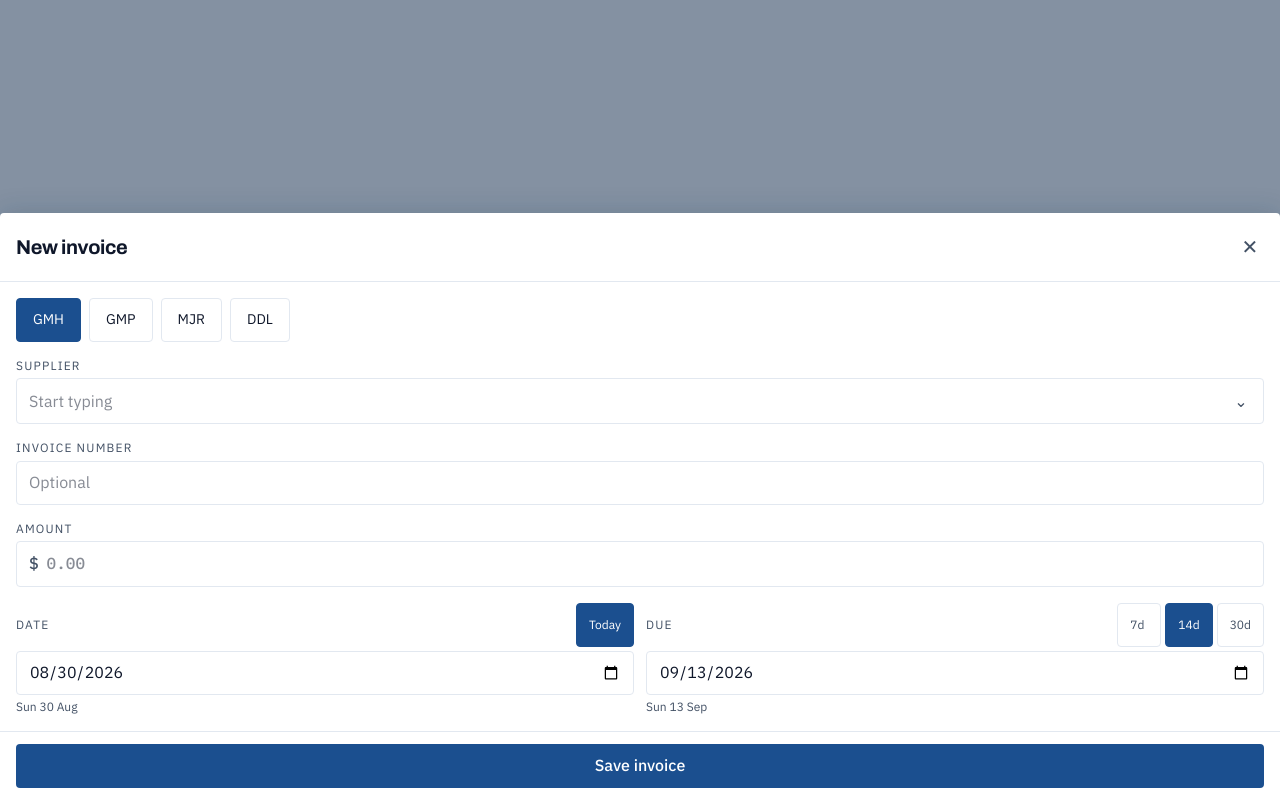
the common case: four taps and a number › confirms with the reference the database actually assigned
Type "Bid" into the field labelled "Supplier".
click(618, 401); type("Bid")  # box [17,379,1219,423]
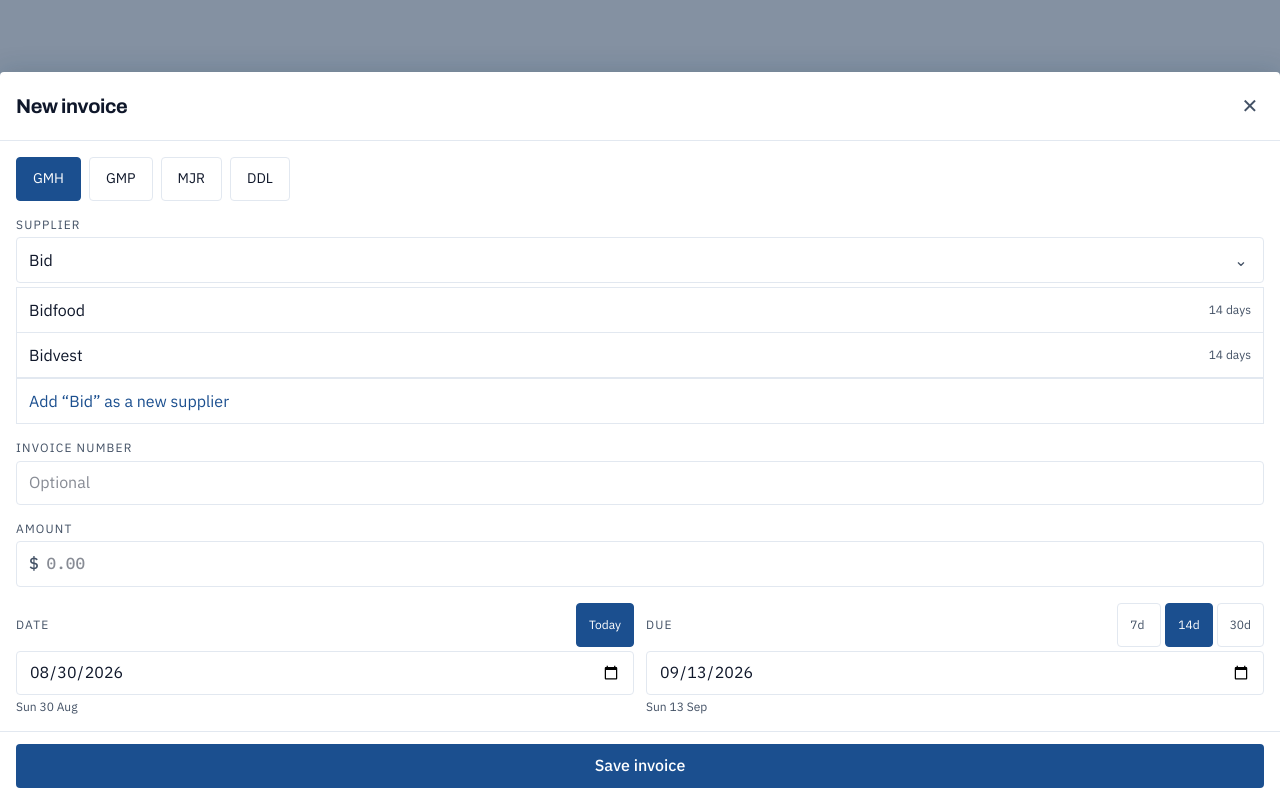
Press the mouse on the button "Bidfood 14 days" at (57, 310), box [17,288,1263,332]
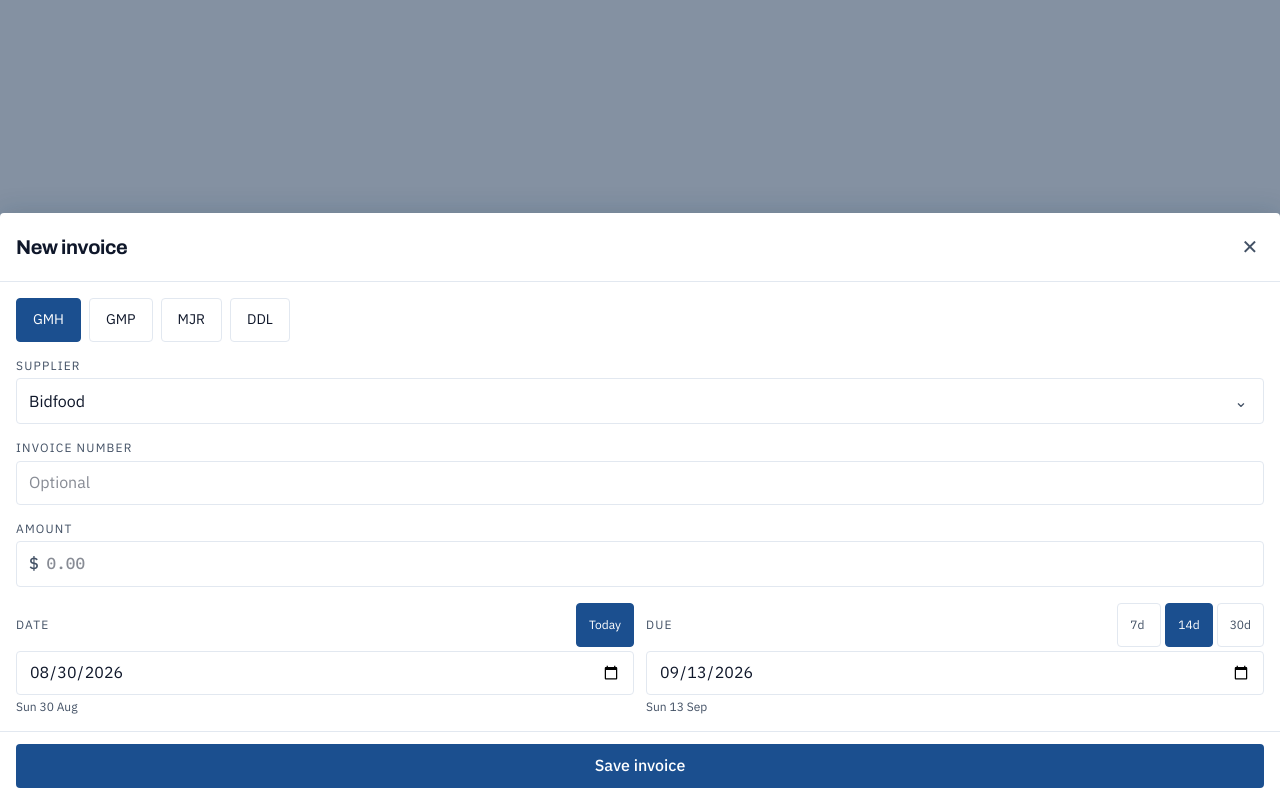
Type "100" into the field labelled "Amount".
click(651, 564); type("100")  # box [39,542,1263,586]
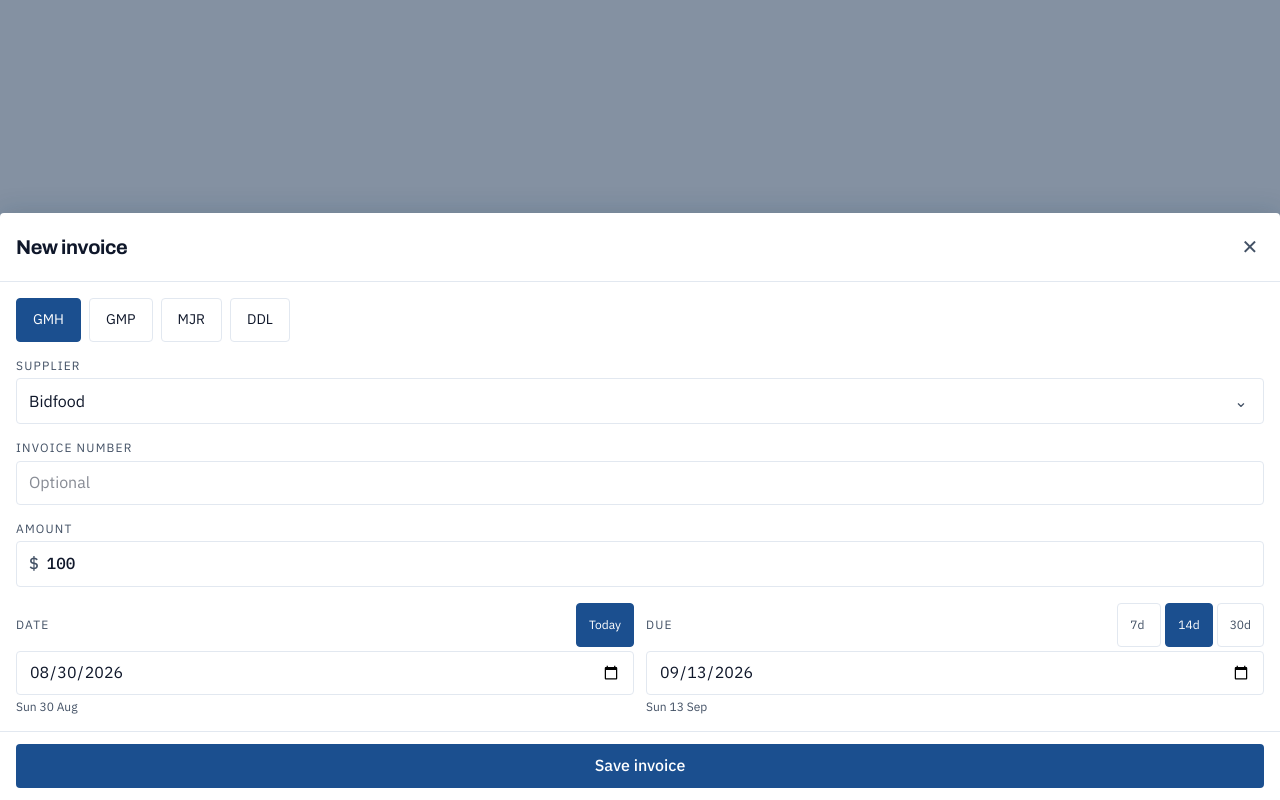
Click the button "Save invoice".
click(640, 766)  # box [16,744,1264,788]
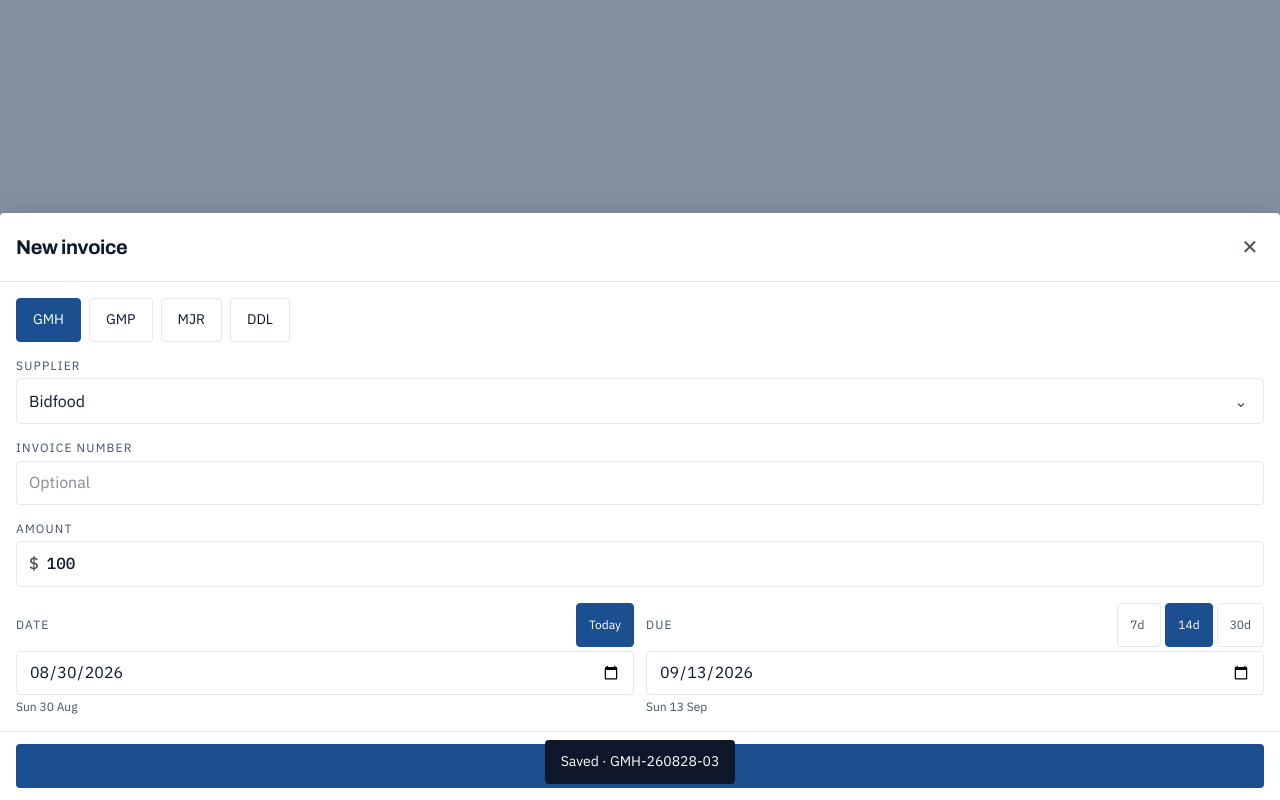
Expected: the text "Saved · GMH-260828-03" is shown, [561,752,719,772]
